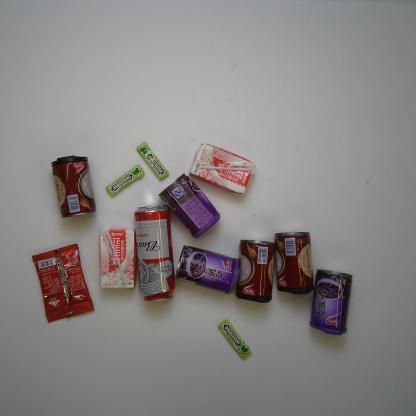Alcohol: (131, 202, 177, 304)
Canned Food: (159, 172, 220, 240), (172, 244, 240, 296), (309, 267, 355, 339), (51, 153, 97, 219), (273, 228, 315, 296), (234, 237, 276, 305)
Gum: (135, 141, 170, 182), (105, 163, 146, 197), (219, 319, 252, 360)
Instant Drink: (31, 242, 95, 324)
Milk: (189, 142, 256, 196), (98, 224, 138, 290)
